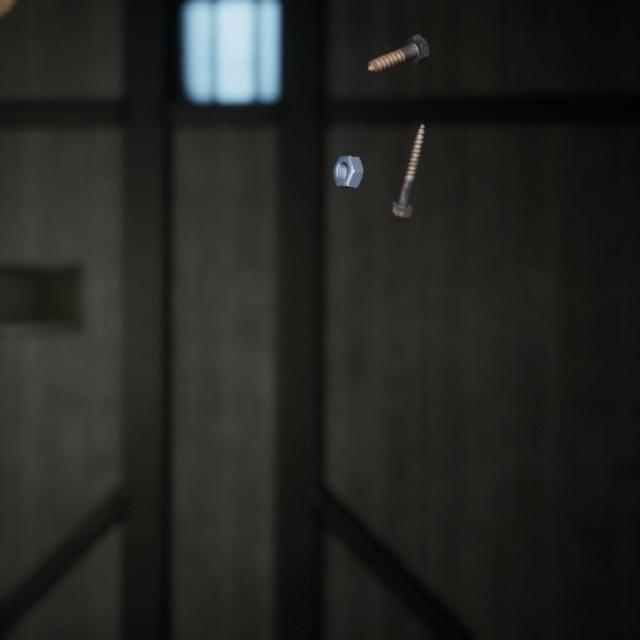bolt: (385, 106, 428, 209), (362, 21, 433, 69)
nut: (329, 137, 370, 179)
